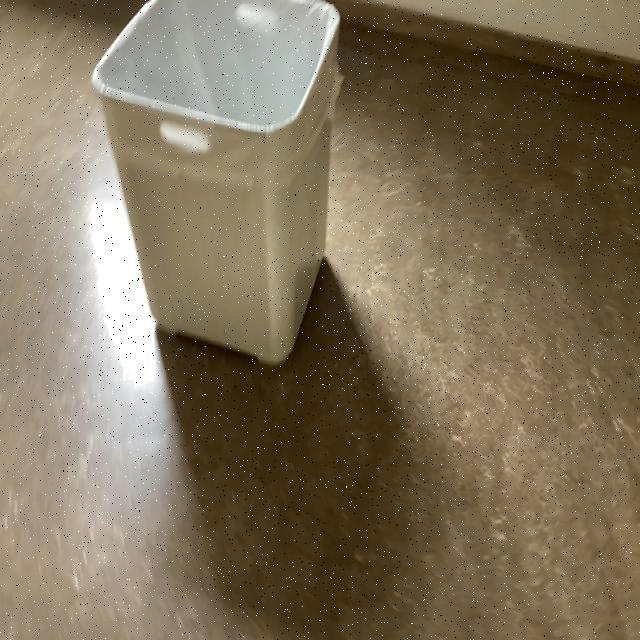garbage container: (64, 0, 356, 380)
